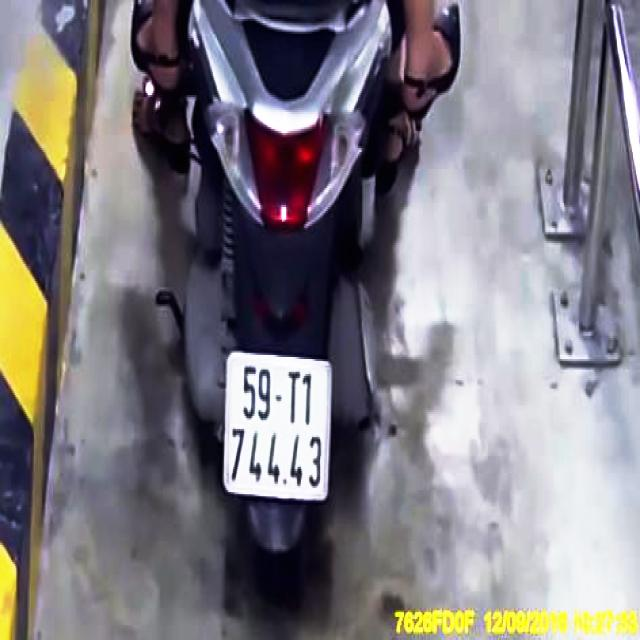license_plate: (222, 351, 333, 504)
